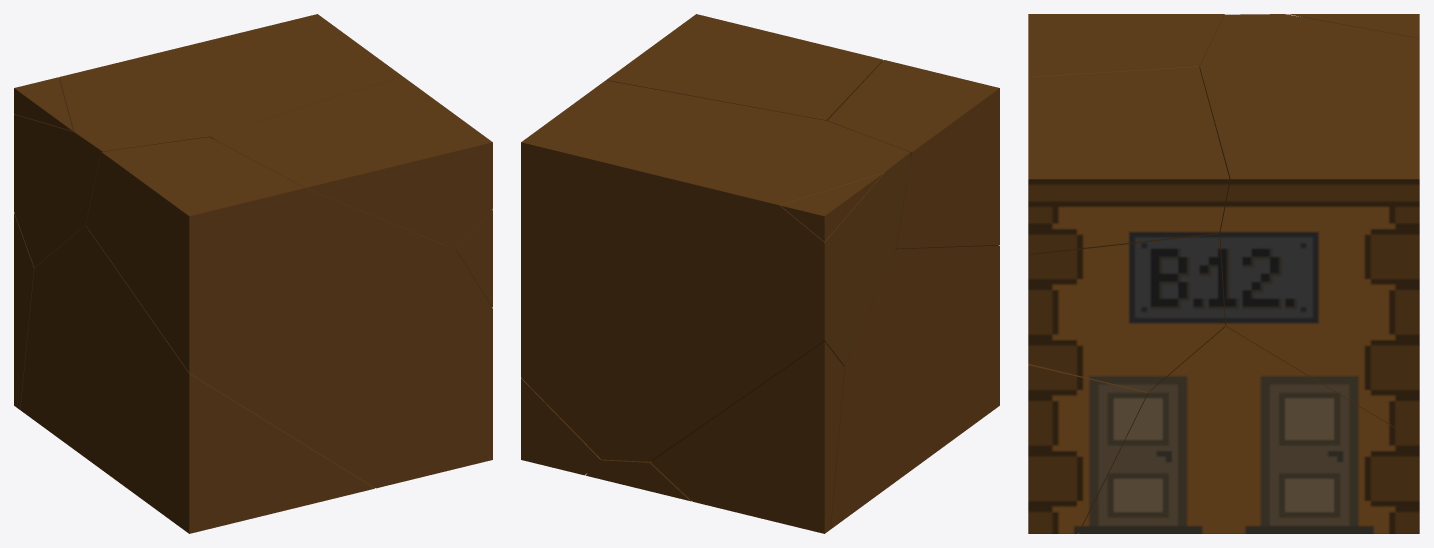
Rendered from BrickBuildingBrown_2_128x128_Ground01_break.fbx.
3 views of the same model, side by side, from view 1: azimuth 30°, elevation 25°; view 2: azimuth 150°, elevation 25°; view 3: azimuth 270°, elevation 25° (orthographic). The views are drawn at different scales.
Parts seen in each view (by area): view 1: Ground01Break01, Ground01Break02, Ground01Break09, Ground01Break06, Ground01Break03, Ground01Break07, Ground01Break04; view 2: Ground01Break09, Ground01Break02, Ground01Break03, Ground01Break01, Ground01Break06, Ground01Break05, Ground01Break07, Ground01Break08; view 3: Ground01Break09, Ground01Break05, Ground01Break06, Ground01Break04, Ground01Break01, Ground01Break07.
Part boxes in pixels (x1,y1,x2,y2): Ground01Break01: (86,137,492,488); Ground01Break02: (20,225,374,533); Ground01Break09: (14,14,401,267); Ground01Break06: (210,76,492,249); Ground01Break03: (14,213,34,409); Ground01Break07: (14,77,72,130); Ground01Break04: (453,210,492,307); Ground01Break09: (521,80,910,461); Ground01Break02: (830,245,999,528); Ground01Break03: (651,341,844,533); Ground01Break01: (826,60,999,249); Ground01Break06: (606,14,882,120); Ground01Break05: (521,378,600,475); Ground01Break07: (780,173,883,241); Ground01Break08: (585,459,691,501); Ground01Break09: (1199,14,1419,442); Ground01Break05: (1079,326,1419,533); Ground01Break06: (1028,67,1229,255); Ground01Break04: (1028,234,1225,391); Ground01Break01: (1028,14,1224,533); Ground01Break07: (1288,14,1419,38).
Size of the model in its own units: 100 by 100 by 100.
1 material, 1 textured.
